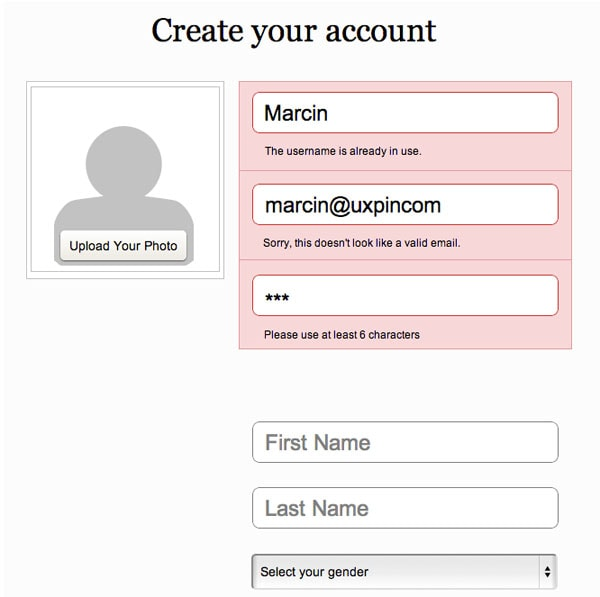error_field: (250, 90, 561, 136), (252, 273, 562, 317), (251, 183, 561, 226)
error_message: (262, 235, 463, 249), (262, 143, 422, 157), (262, 328, 422, 341)
